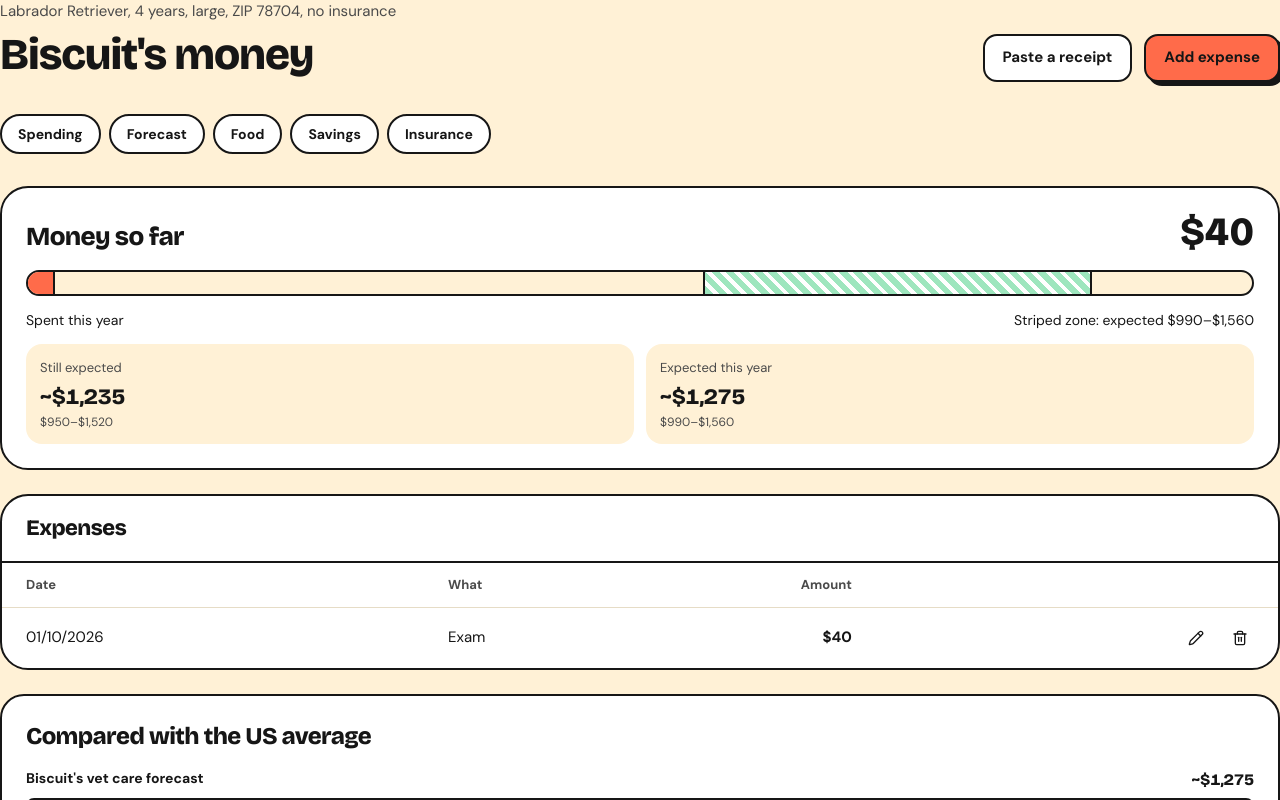
Test: MoneyPage expense rows › edits an expense
The image size is (1280, 800).
Click the button named "edit exam, 01/10/2026" at coordinates (1196, 638), box left=1174, top=616, right=1218, bottom=660
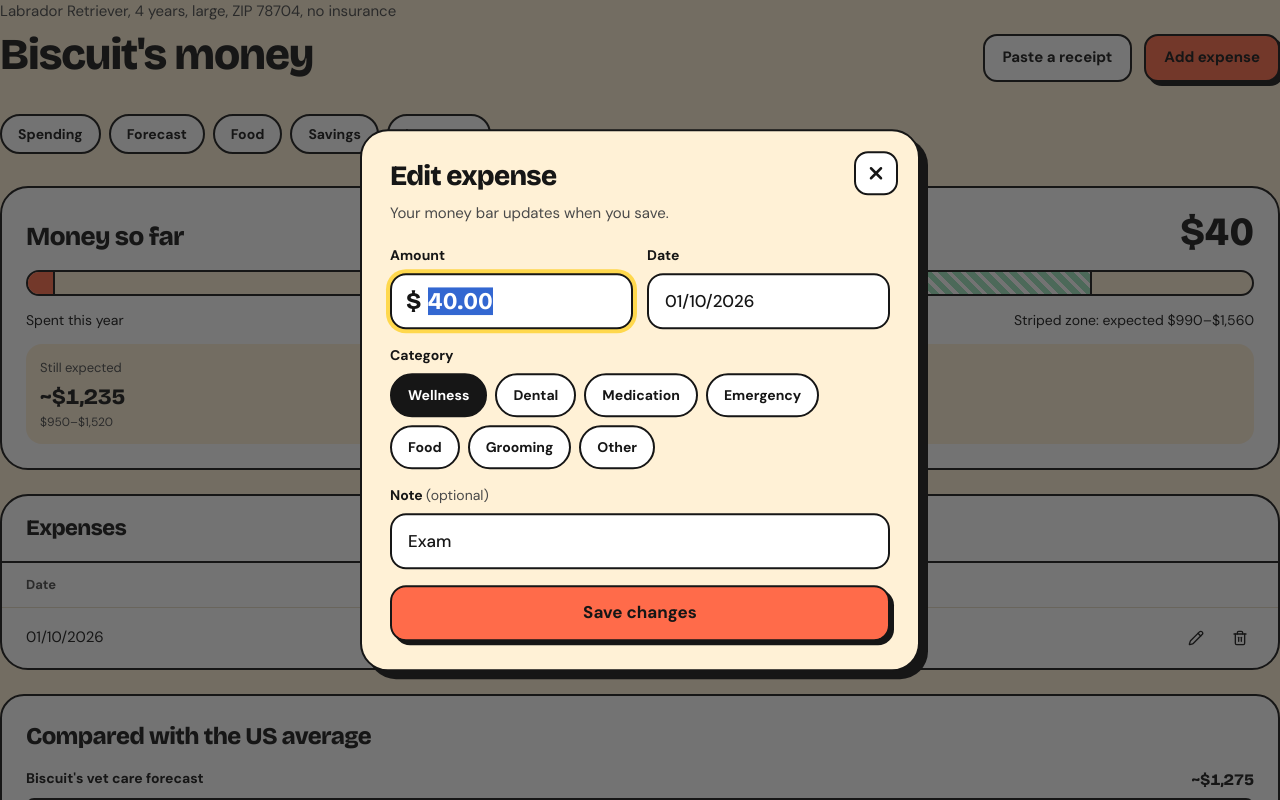
Replace the text in the field labelled "Amount" with "55.50" at coordinates (512, 301), box left=390, top=273, right=633, bottom=329
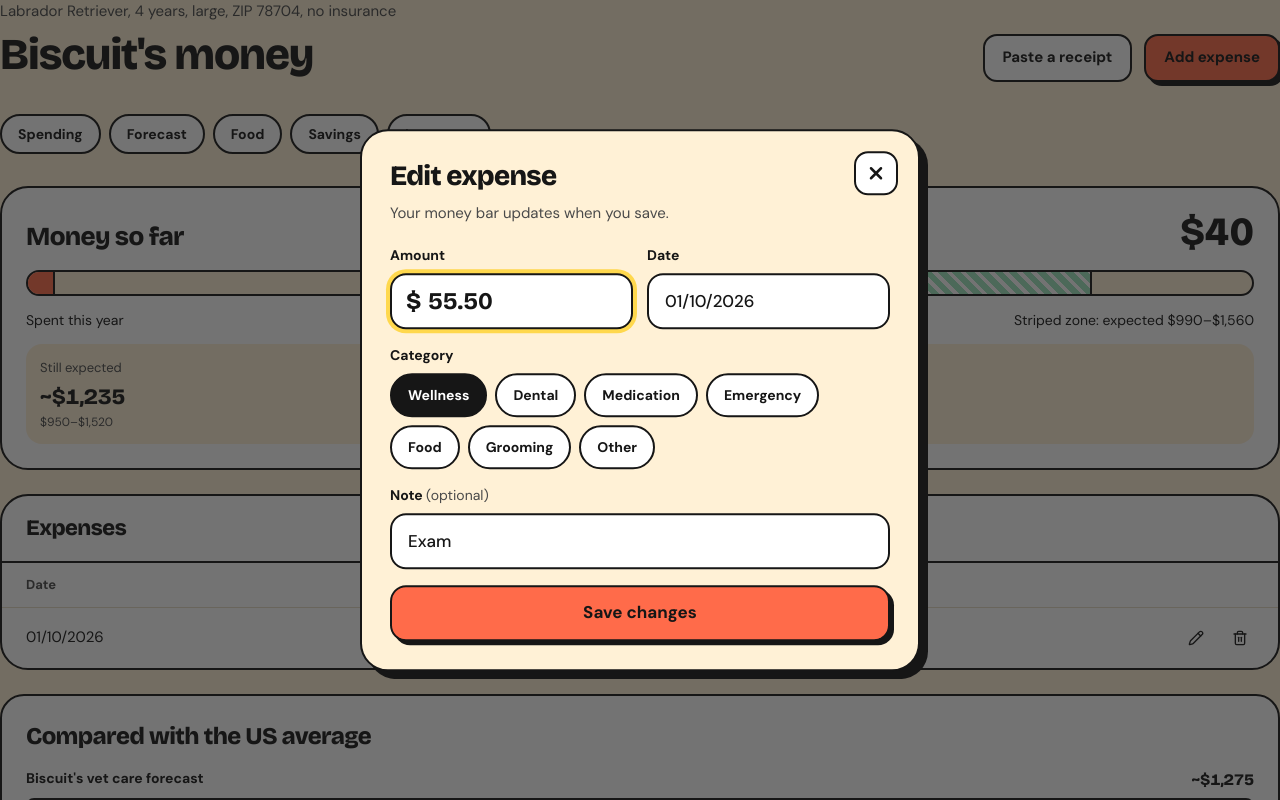
Click the button "Save changes" at coordinates (640, 613), box left=390, top=585, right=890, bottom=641
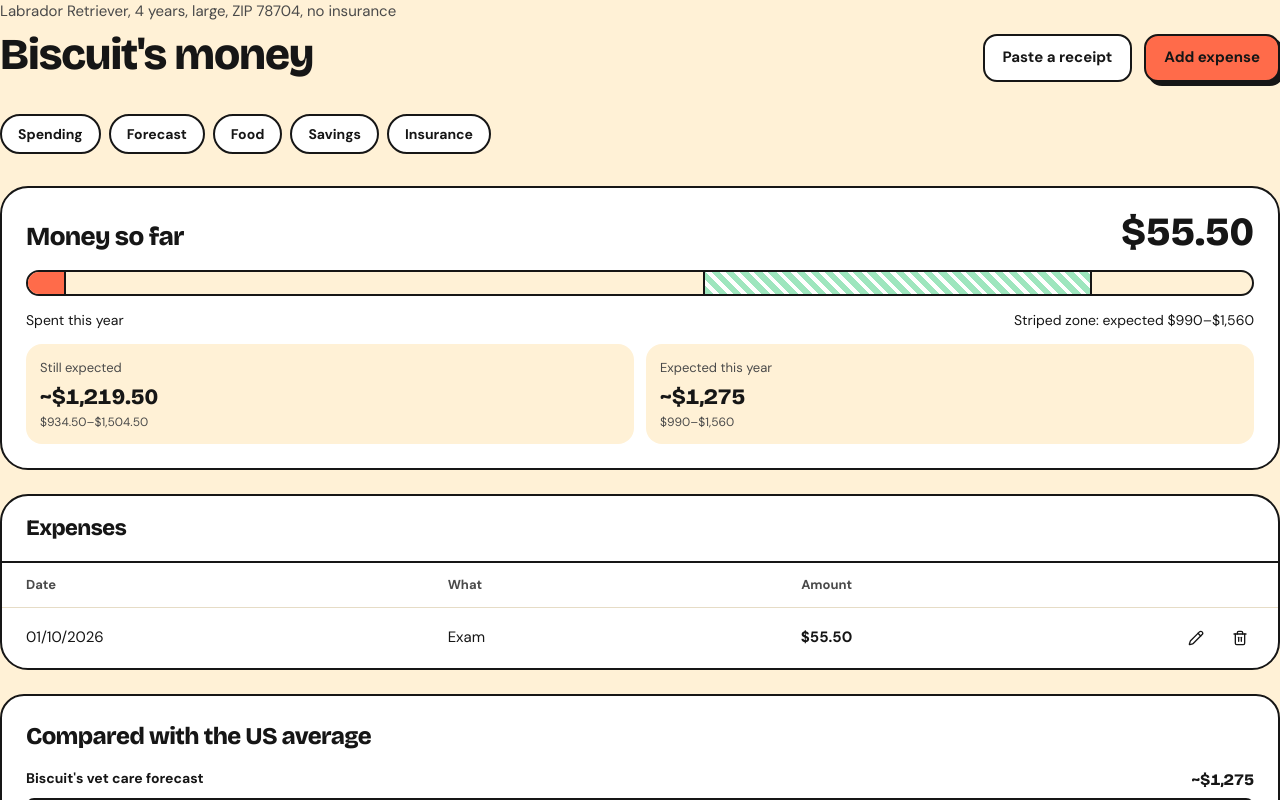
Now the text "$55.50" is shown, box left=626, top=607, right=860, bottom=668
